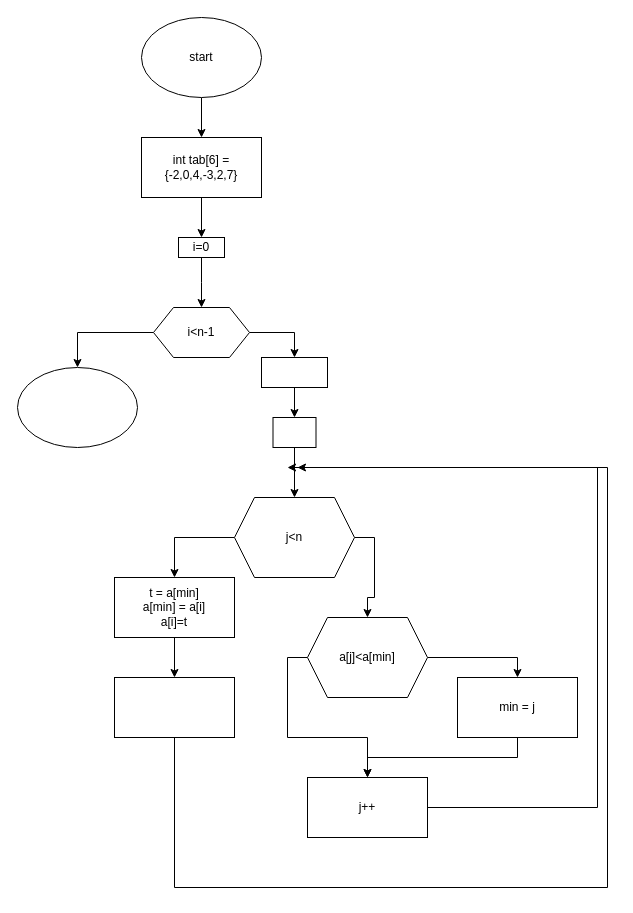
Image size: 633x913. Some labels were removed from this diagram. The centre of each missing label's shape, as x and y in pixels:
"i++" belongs at point (174, 707).
"j=i+1" belongs at point (294, 432).
"min = i" belongs at point (294, 372).
"stop" belongs at point (77, 407).
